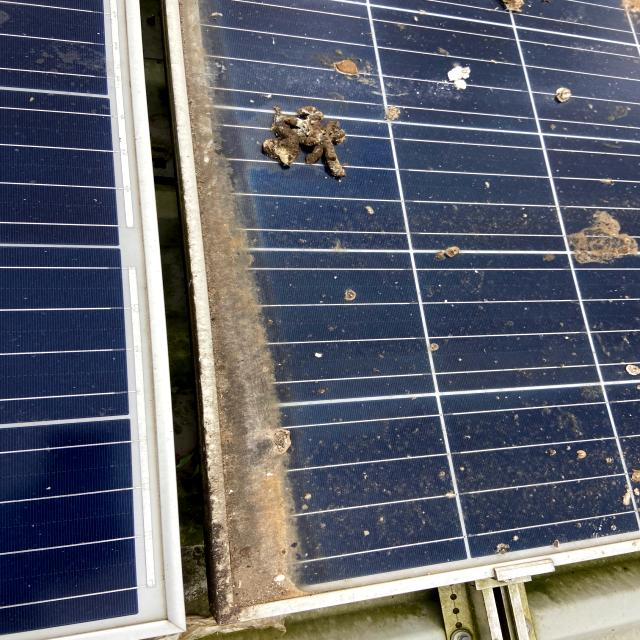bird: (250, 84, 372, 182), (534, 197, 640, 278), (409, 218, 492, 289), (580, 348, 640, 431), (418, 43, 490, 105), (309, 268, 382, 314), (530, 66, 598, 112), (485, 482, 515, 564), (337, 51, 392, 81), (469, 0, 546, 15)
